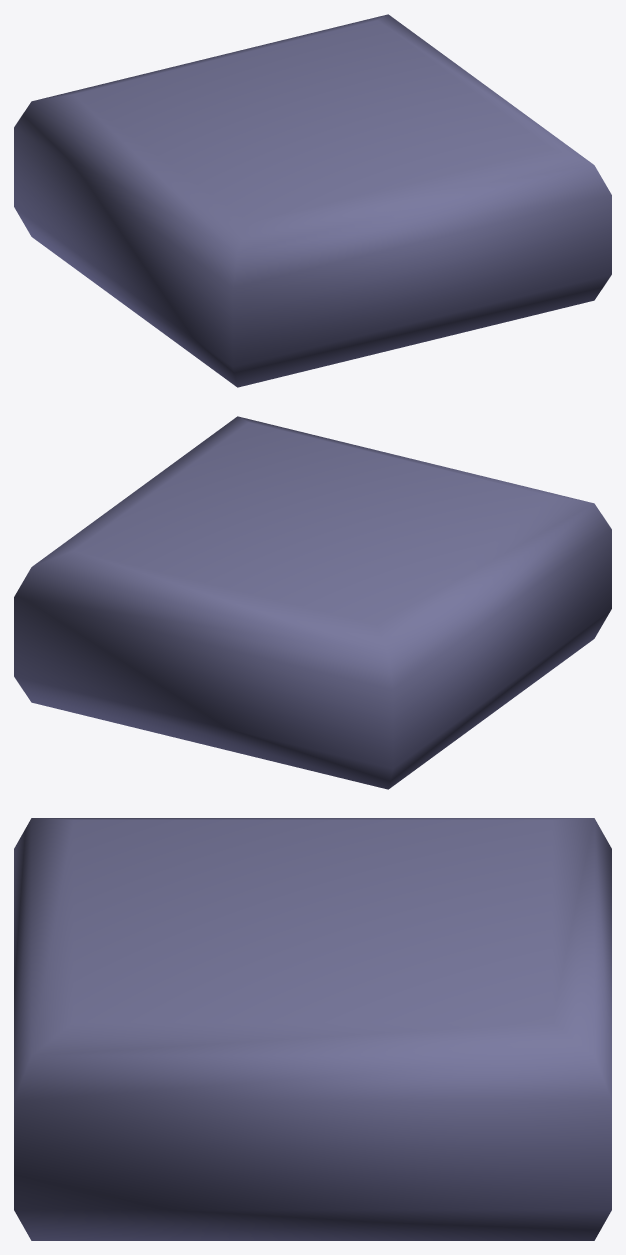
File: conveyor-sides-cross.fbx
3 renders of one model, top to bottom at view 1: azimuth 30°, elevation 25°; view 2: azimuth 150°, elevation 25°; view 3: azimuth 270°, elevation 25°, orthographic. The views are drawn at different scales.
Visible parts, largest first — view 1: conveyor-sides-cross; view 2: conveyor-sides-cross; view 3: conveyor-sides-cross.
Part boxes in pixels (x1,y1,x2,y2): conveyor-sides-cross: (14,14,611,387); conveyor-sides-cross: (14,416,611,789); conveyor-sides-cross: (14,818,611,1240).
Size of the model in its own units: 100 by 40 by 100.
Materials: 1 (1 with a texture image).
